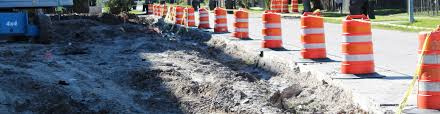barrel: (340, 15, 375, 73), (418, 30, 440, 109), (298, 14, 326, 59), (261, 11, 284, 49), (232, 9, 250, 39), (213, 7, 228, 31), (198, 8, 209, 27)
